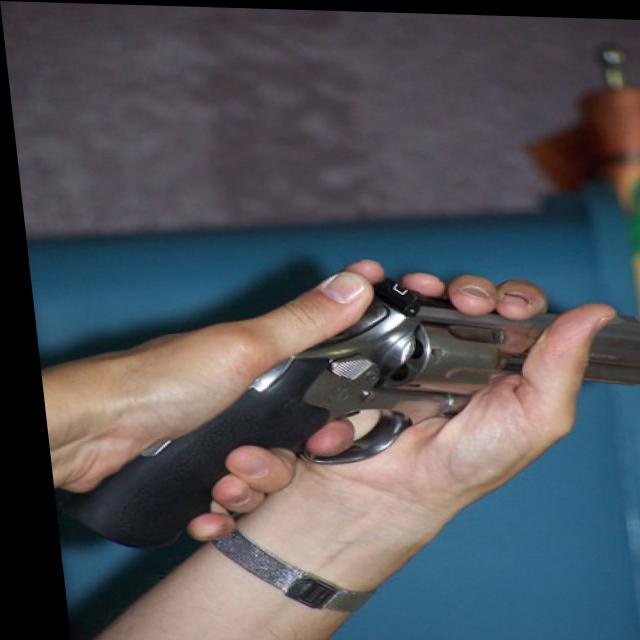handgun: (46, 271, 640, 564)
